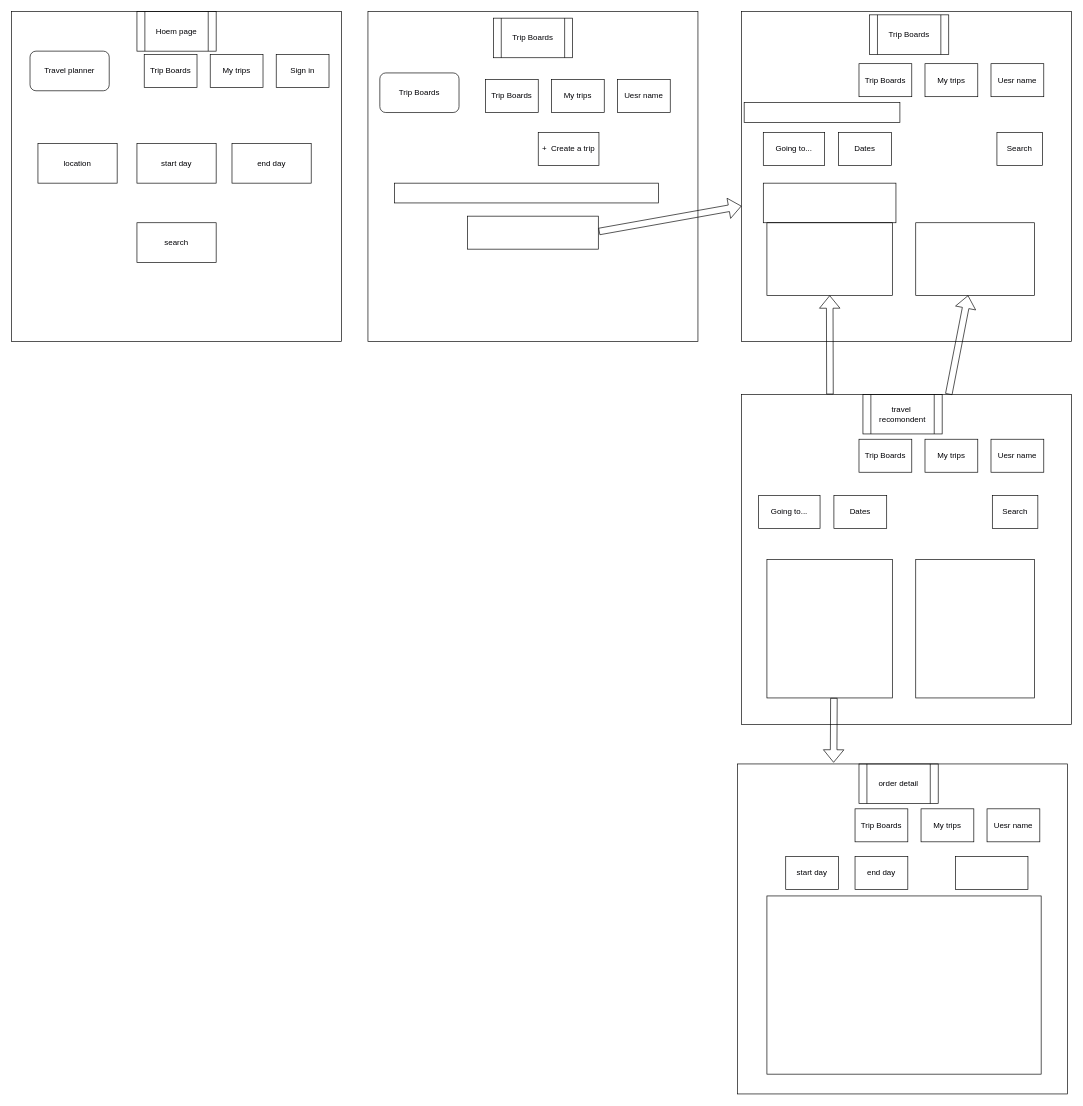
The diagram is 1083 pixels wide and 1106 high, and some of its shapes have lost their labels. The shapes that lost their labels are listed below. From the top down, each one's box as (x1, y1, x2, y2) in pixels, then its label:
(743, 102, 900, 122): Find your place for together
(394, 182, 658, 203): User, you have no upcoming trips. where ary you going next?
(763, 182, 896, 223): Get inspired for a family trip
(467, 215, 598, 249): Start exploring
(766, 222, 892, 295): On the beach
(915, 222, 1035, 295): Pets welcome
(766, 559, 892, 698): list of recomondent
(915, 559, 1035, 698): map
(955, 856, 1028, 889): add to my plan
(766, 895, 1041, 1074): details: day1: time description time discription day2: time description
